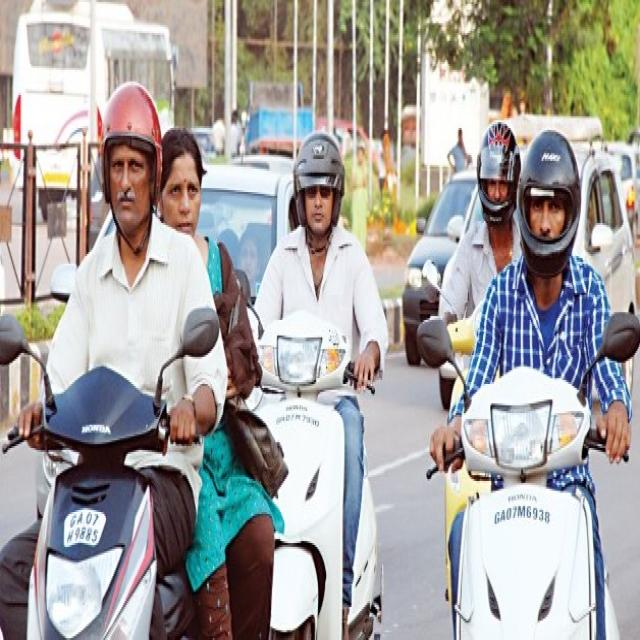helmet: (516, 129, 582, 276), (100, 79, 163, 209)
